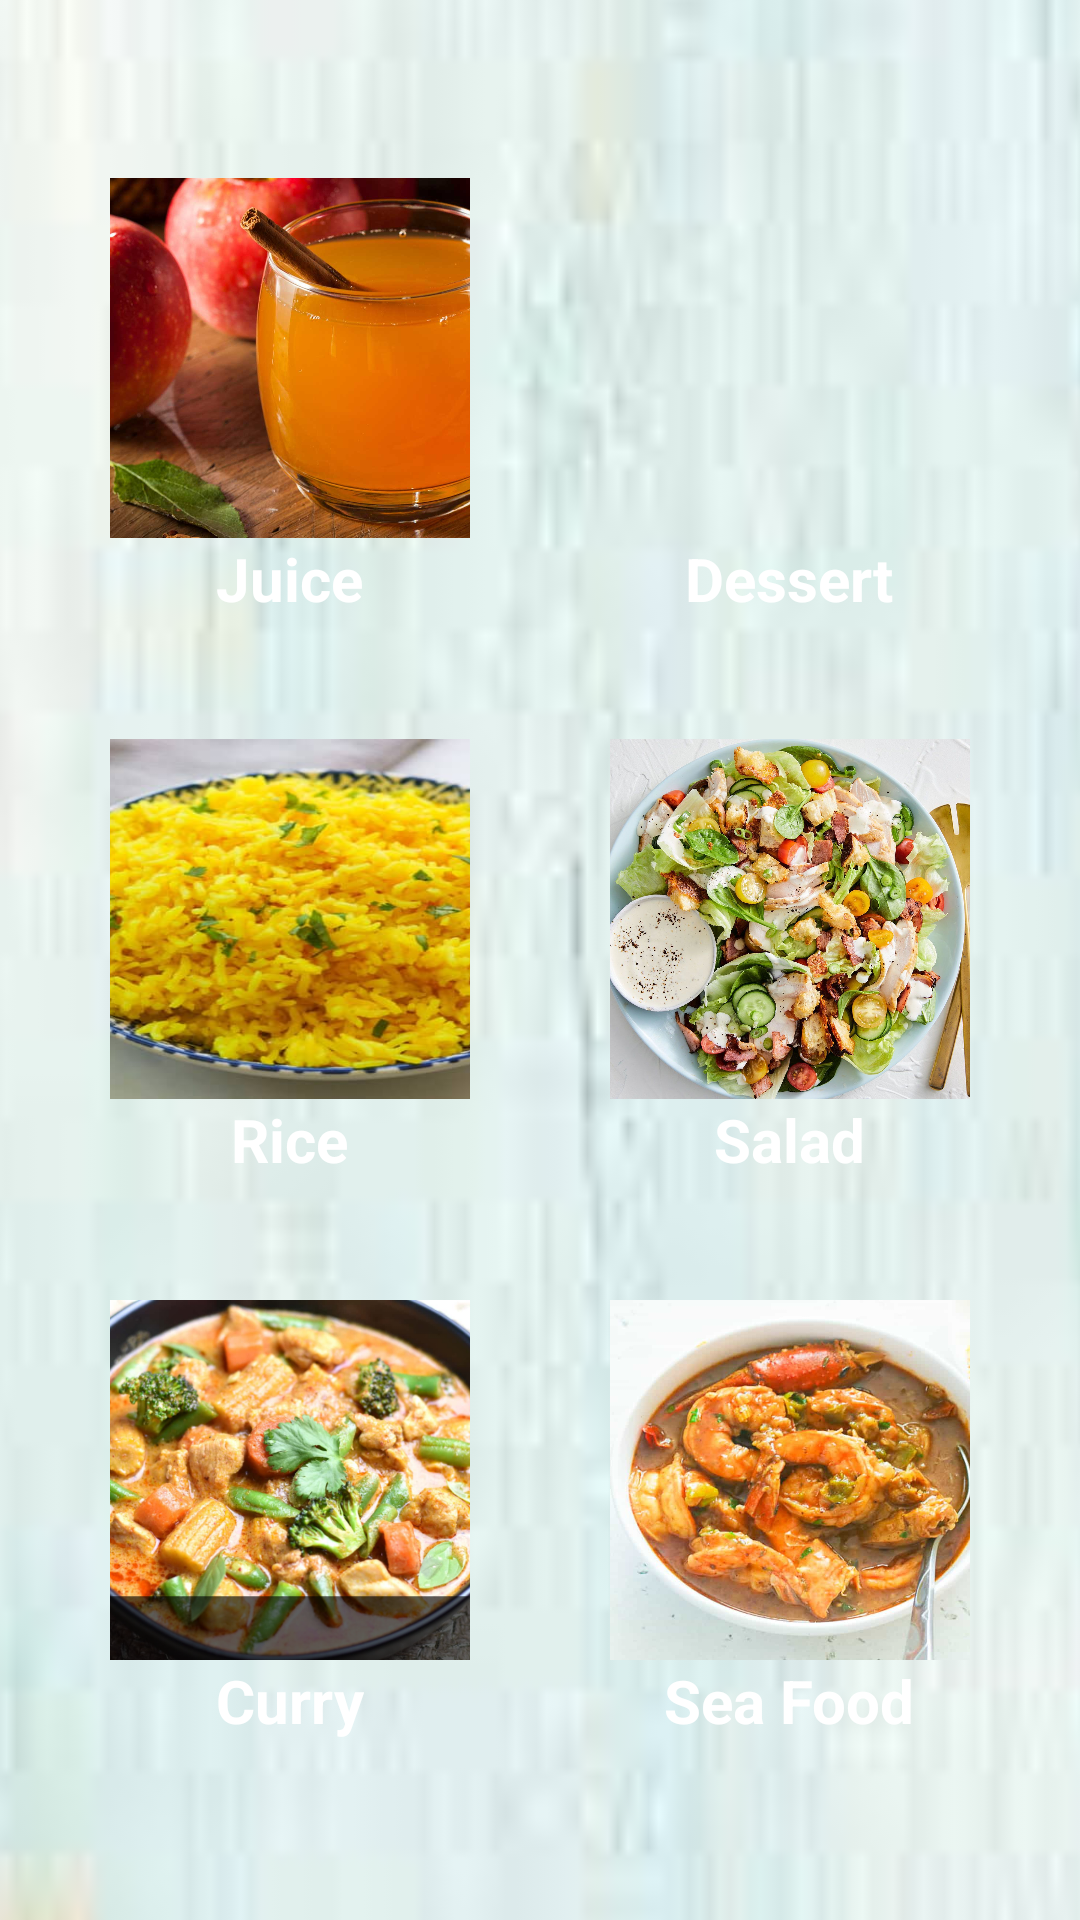

Icon bounding boxes for this 1080px×1920px phone screenshot, format [x1,y1,x2,y2]:
gumbo: [610,1300,970,1660]
